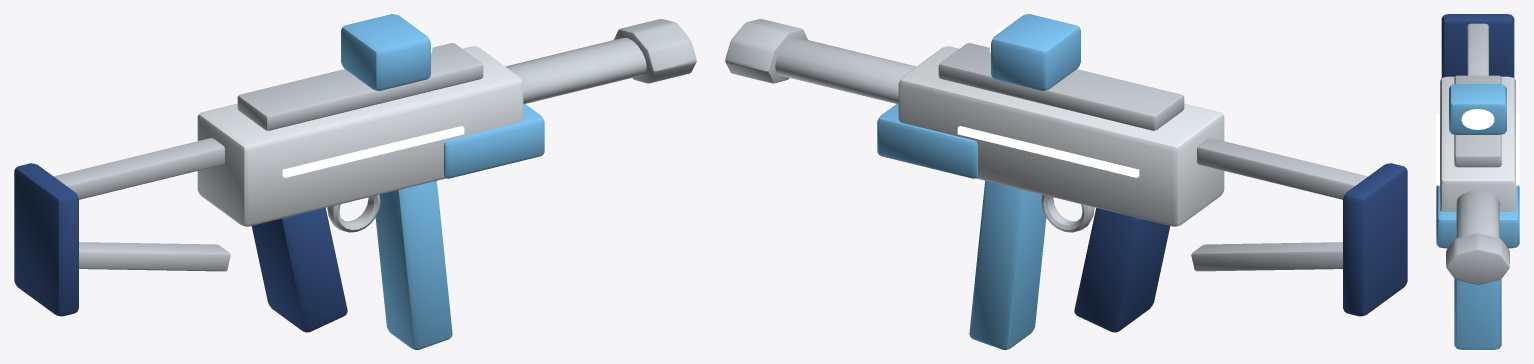
Rendered from SGP_SMG_Frost.glb.
3 views of the same model, side by side, from view 1: azimuth 30°, elevation 25°; view 2: azimuth 150°, elevation 25°; view 3: azimuth 270°, elevation 25° (orthographic). The views are drawn at different scales.
Visible parts, largest first — view 1: SGP_SMG_Frost; view 2: SGP_SMG_Frost; view 3: SGP_SMG_Frost.
Boxes of the visible parts, <box> form: SGP_SMG_Frost: <box>14,14,696,349</box>; SGP_SMG_Frost: <box>725,14,1407,349</box>; SGP_SMG_Frost: <box>1436,14,1519,349</box>.
Size of the model in its own units: 0.5015 by 0.2349 by 0.0736.
